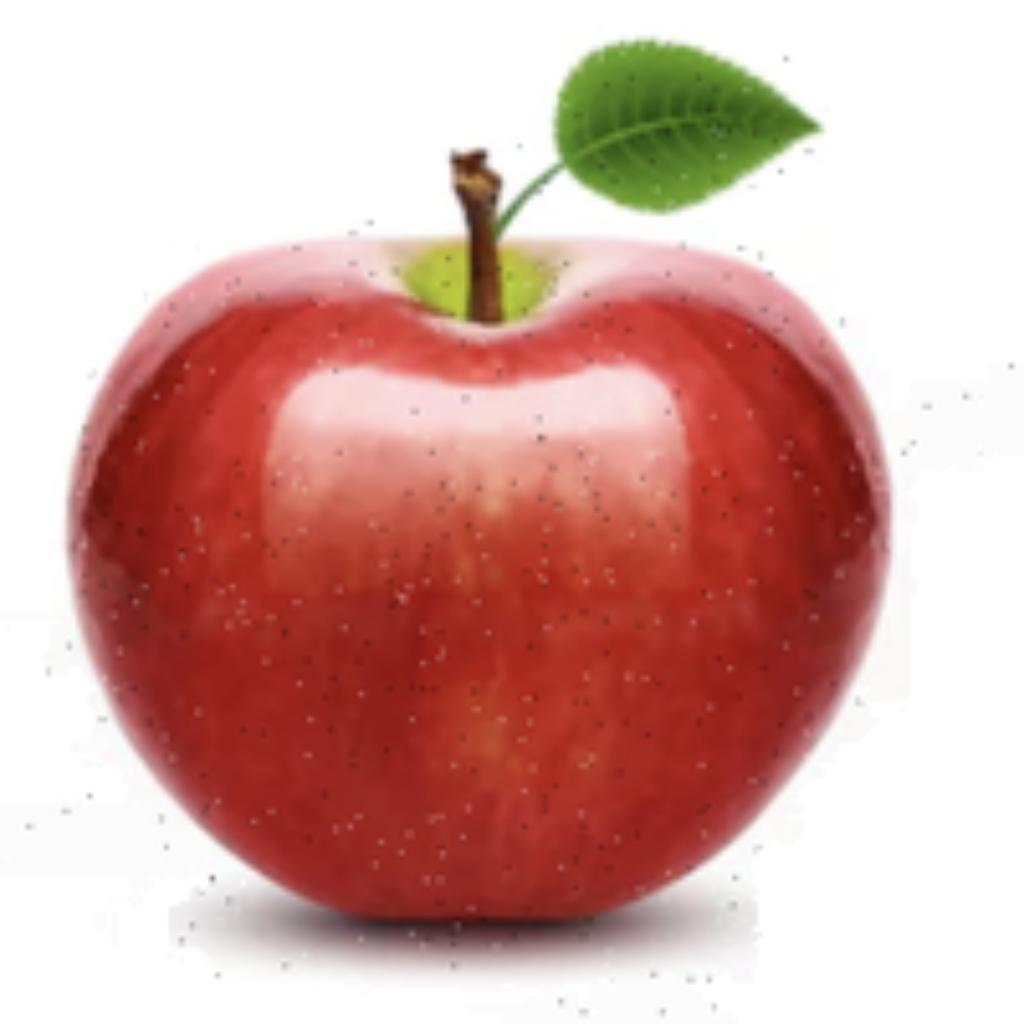apple: (55, 31, 922, 1019)
